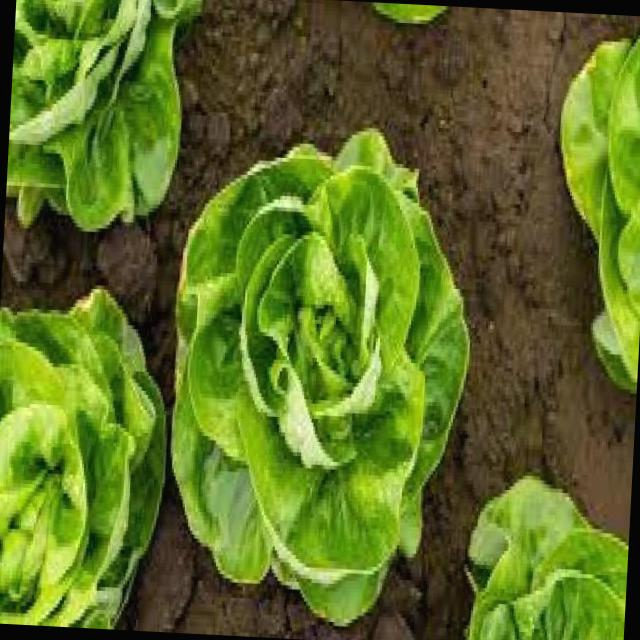Lettuce-Ready-to-Harvest: (172, 129, 469, 625), (0, 290, 167, 629), (6, 0, 199, 230), (561, 33, 640, 391), (467, 477, 629, 640)
